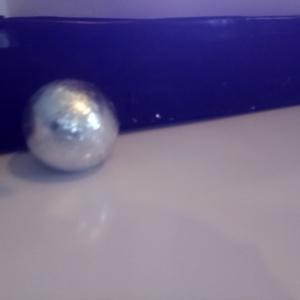zone: (1, 15, 300, 154)
